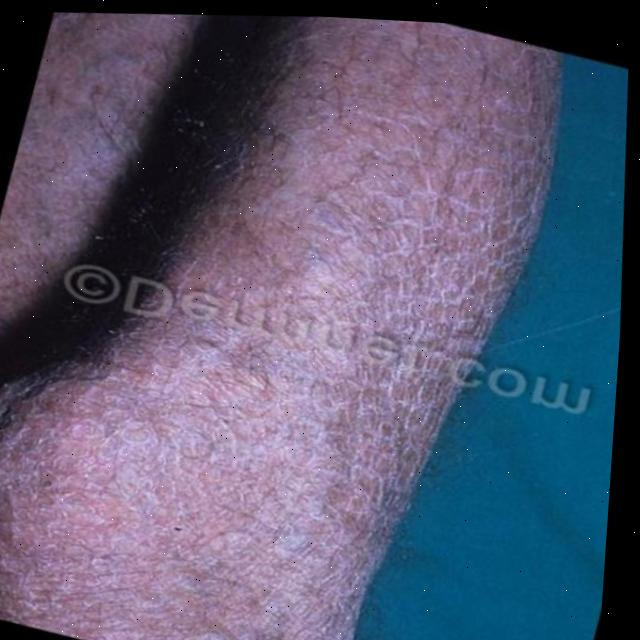Eczema: (0, 14, 551, 640)
